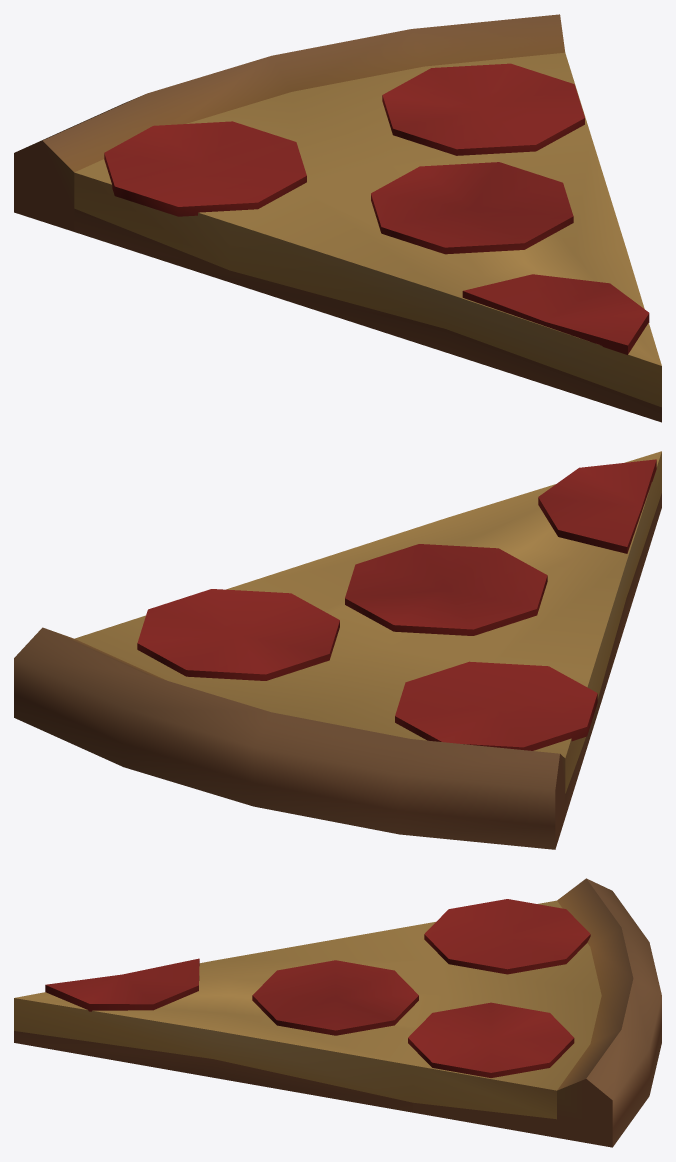
Rendered from consumables-junkfood-pizzaslice_v1.glb.
3 renders of one model, top to bottom at view 1: azimuth 30°, elevation 25°; view 2: azimuth 150°, elevation 25°; view 3: azimuth 270°, elevation 25°, orthographic. The views are drawn at different scales.
Parts seen in each view (by area): view 1: PizzaSlice.001; view 2: PizzaSlice.001; view 3: PizzaSlice.001.
Part boxes in pixels (x1,y1,x2,y2): PizzaSlice.001: (14, 14, 661, 422); PizzaSlice.001: (14, 451, 661, 849); PizzaSlice.001: (14, 878, 661, 1147).
Size of the model in its own units: 0.232 by 0.0332 by 0.3031.
